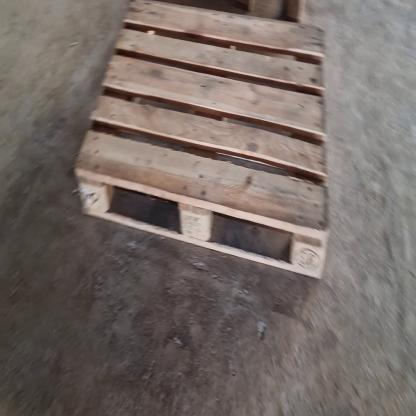BoxFace: (73, 2, 329, 284)
